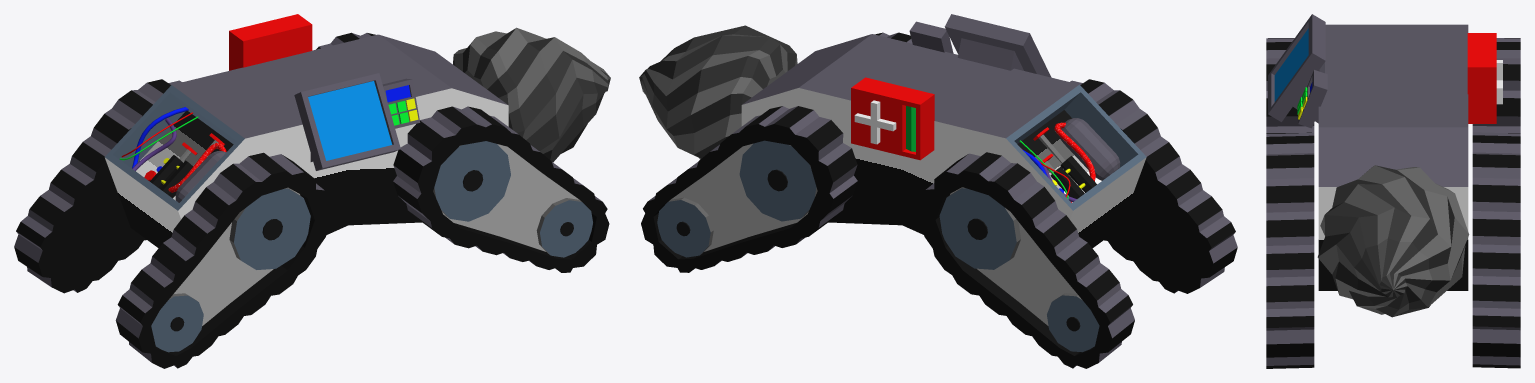
File: Robot.fbx
3 renders of one model, left to right at view 1: azimuth 30°, elevation 25°; view 2: azimuth 150°, elevation 25°; view 3: azimuth 270°, elevation 25°, orthographic.
Parts seen in each view (by area): view 1: Robot; view 2: Robot; view 3: Robot.
Part boxes in pixels (x1,y1,x2,y2): Robot: (14, 14, 610, 368); Robot: (639, 14, 1237, 368); Robot: (1266, 14, 1520, 368).
Bounding box in the file's own units: 562 × 226 × 227.
